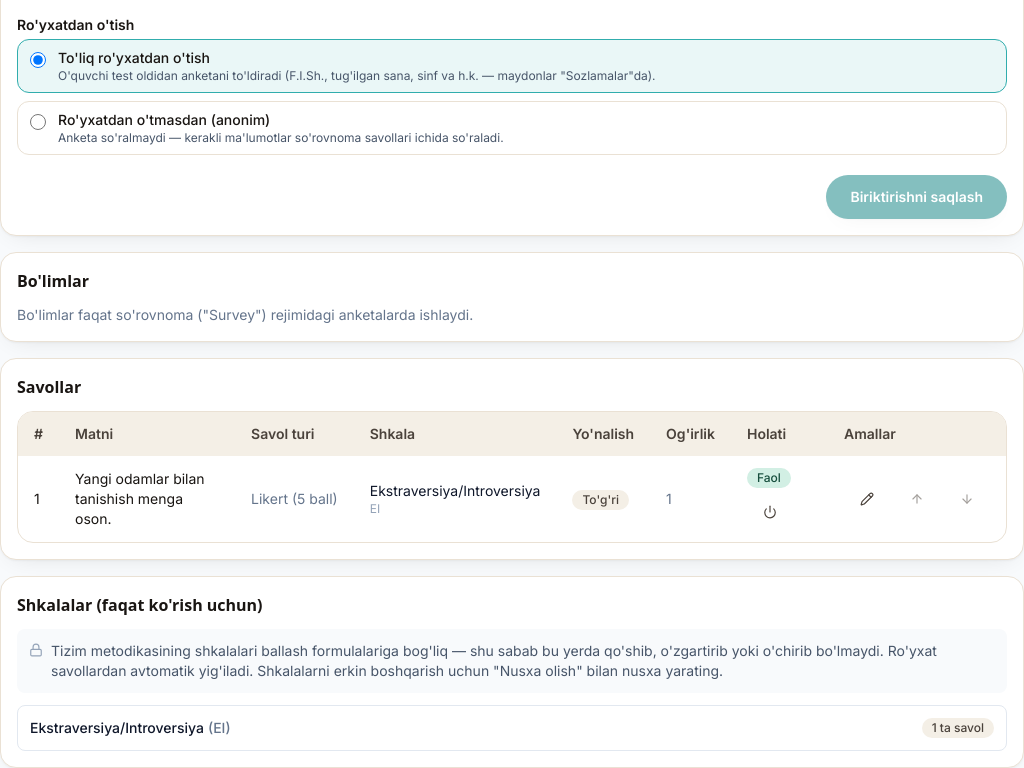
Scenario: CatalogTestDetailPage — tizim metodikasi › savol oynasida shkala/yo'nalish/og'irlik disabled va sababi tushuntirilgan
(page scrolled)
Click the button named "MB-Q01 savolini tahrirlash": point(867, 499) [844,481,890,517]
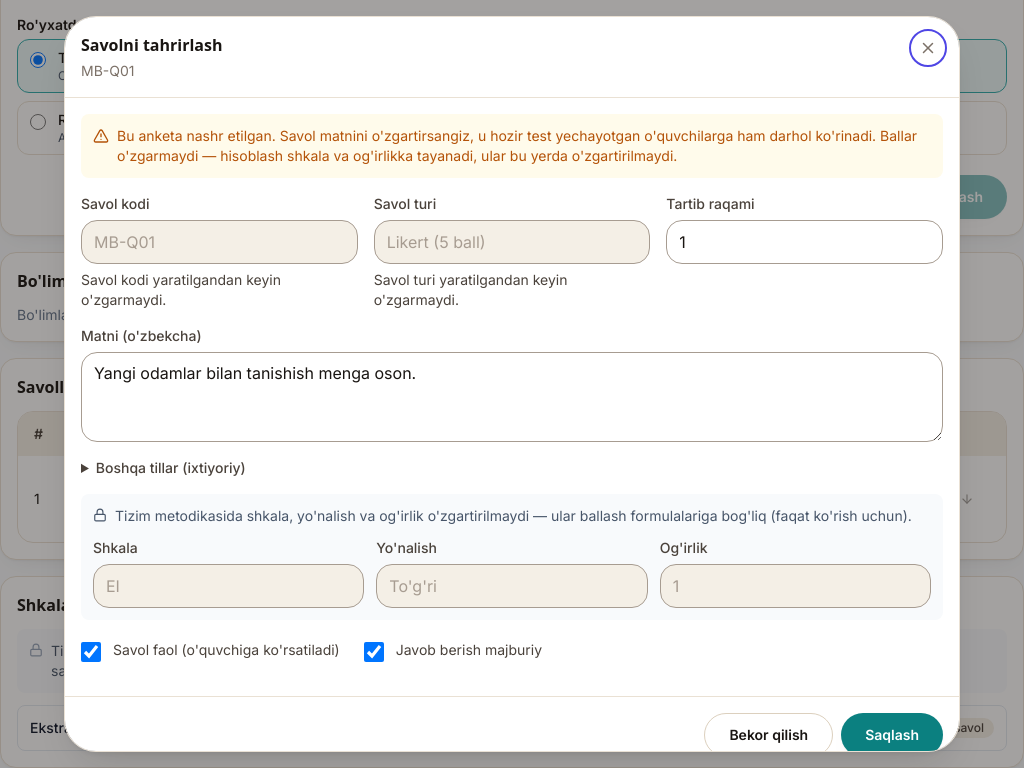
Expected: the field labelled "Shkala" is disabled, [93,564,364,608]
Expected: the field labelled "Yo'nalish" is disabled, [376,564,648,608]
Expected: the field labelled "Og'irlik" is disabled, [660,564,931,608]
